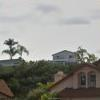Palm tree: (3, 30, 29, 58)
